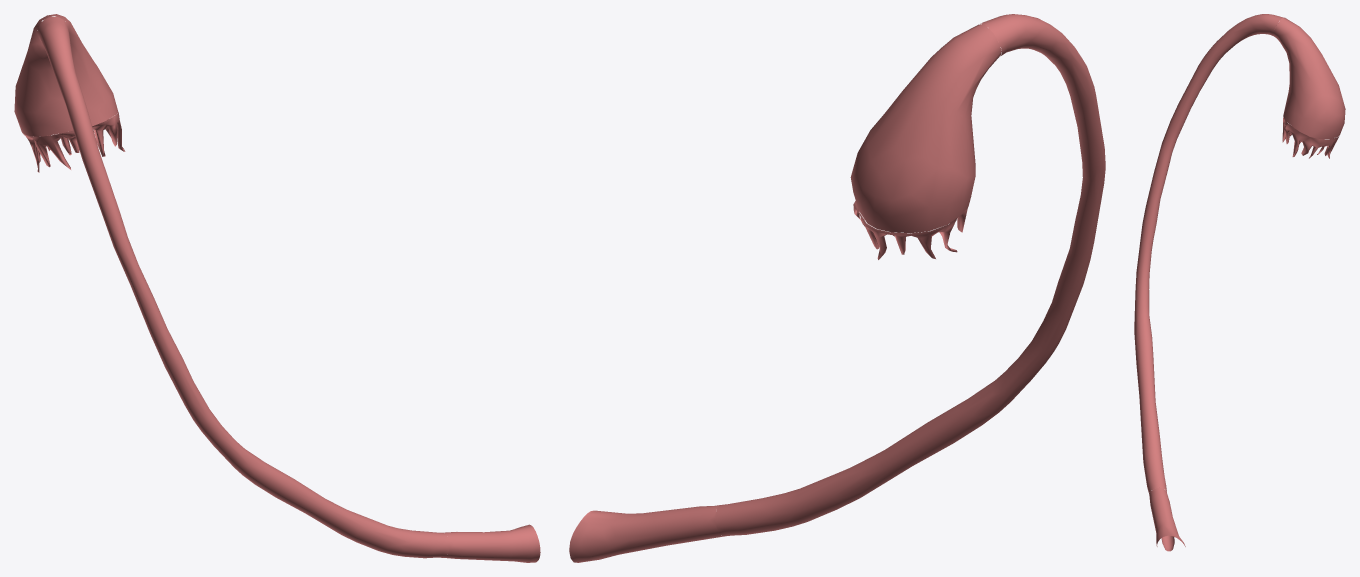
File: vh_f_fallopian_tube_r.glb
3 renders of one model, left to right at view 1: azimuth 30°, elevation 25°; view 2: azimuth 150°, elevation 25°; view 3: azimuth 270°, elevation 25°, orthographic. The views are drawn at different scales.
Visible parts, largest first — view 1: VH_F_ampulla_of_uterine_tube_R, VH_F_uterine_tube_infundibulum_R, VH_F_isthmus_of_fallopian_tube_R, VH_F_fibria_of_uterine_tube_R; view 2: VH_F_ampulla_of_uterine_tube_R, VH_F_uterine_tube_infundibulum_R, VH_F_isthmus_of_fallopian_tube_R, VH_F_fibria_of_uterine_tube_R; view 3: VH_F_ampulla_of_uterine_tube_R, VH_F_uterine_tube_infundibulum_R, VH_F_isthmus_of_fallopian_tube_R, VH_F_fibria_of_uterine_tube_R.
Boxes of the visible parts, bbox=[...] form: VH_F_ampulla_of_uterine_tube_R: bbox=[37, 16, 449, 558]; VH_F_uterine_tube_infundibulum_R: bbox=[14, 14, 118, 136]; VH_F_isthmus_of_fallopian_tube_R: bbox=[443, 524, 540, 562]; VH_F_fibria_of_uterine_tube_R: bbox=[22, 113, 125, 172]; VH_F_ampulla_of_uterine_tube_R: bbox=[715, 14, 1105, 536]; VH_F_uterine_tube_infundibulum_R: bbox=[850, 24, 1001, 232]; VH_F_isthmus_of_fallopian_tube_R: bbox=[569, 505, 724, 562]; VH_F_fibria_of_uterine_tube_R: bbox=[853, 201, 967, 259]; VH_F_ampulla_of_uterine_tube_R: bbox=[1134, 14, 1283, 493]; VH_F_uterine_tube_infundibulum_R: bbox=[1273, 17, 1345, 138]; VH_F_isthmus_of_fallopian_tube_R: bbox=[1149, 488, 1185, 551]; VH_F_fibria_of_uterine_tube_R: bbox=[1282, 117, 1339, 158].
Size of the model in its own units: 0.0344 by 0.0446 by 0.0209.
